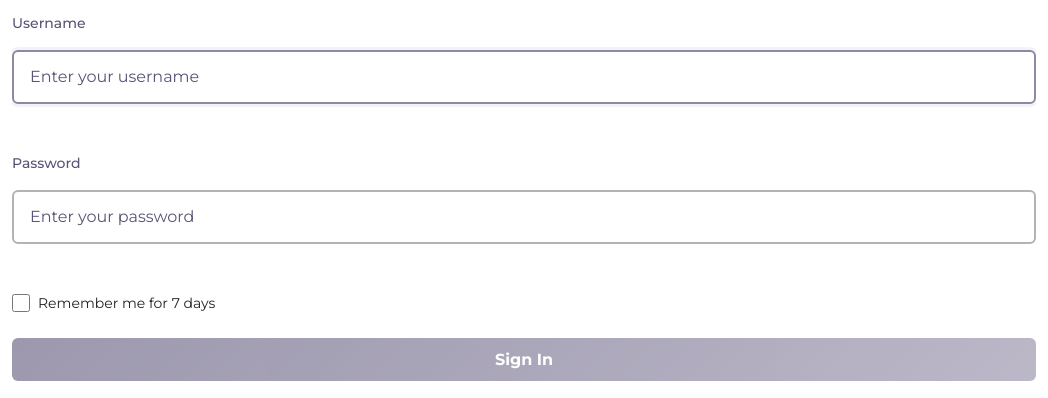
Scenario: LoginForm Component › should enable Sign In button when both fields are filled
Type in the fields
In the field labelled "Username": {"x": 524, "y": 77} 12,50 -> 1036,104, type "testuser"
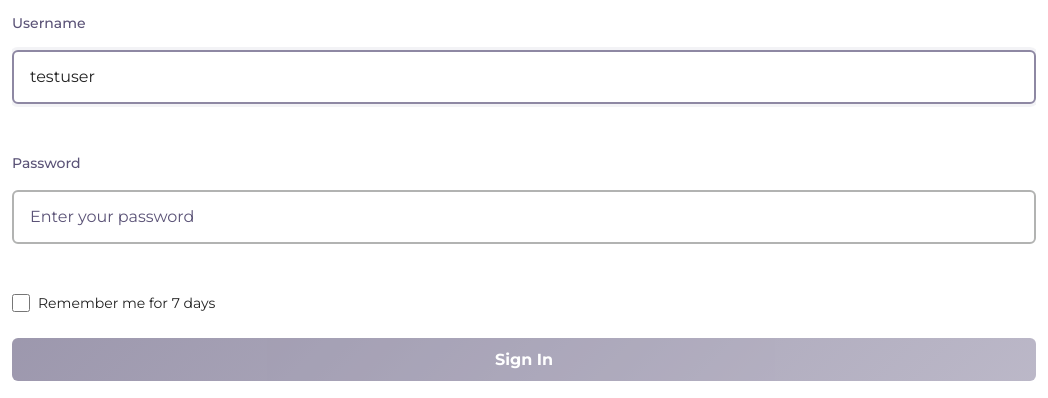
In the password field labelled "Password": {"x": 524, "y": 217} 12,190 -> 1036,244, type "password123"
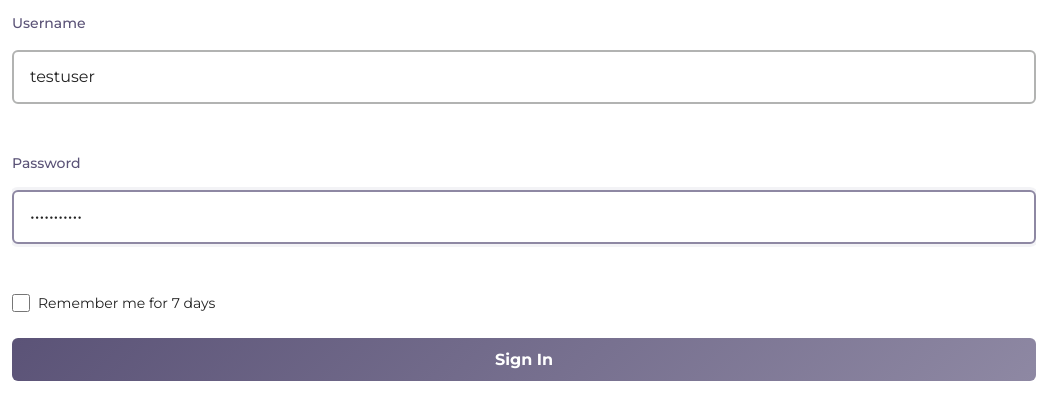
Expected: the button "Sign In" is enabled, 12,338 -> 1036,381
